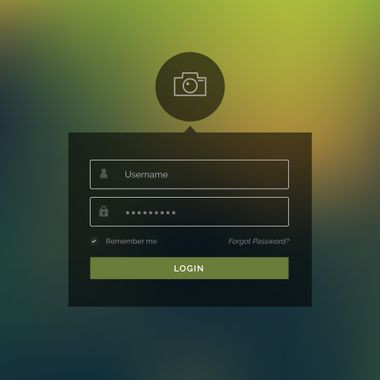_form_: (1, 1, 380, 380)
button: (88, 255, 290, 280)
checkbox: (87, 236, 100, 246)
checkbox_with_label: (85, 234, 157, 247)
field: (89, 158, 289, 190), (88, 196, 290, 226)
